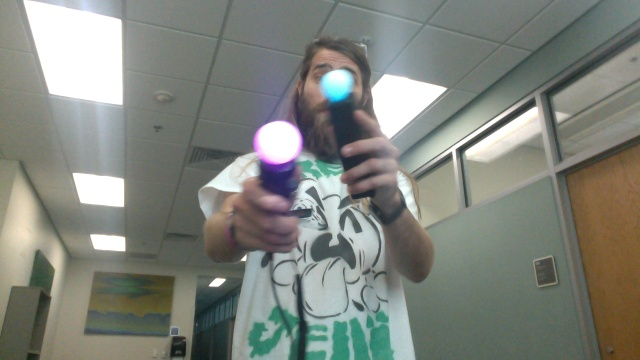wand: (255, 122, 302, 165), (321, 70, 352, 101)
